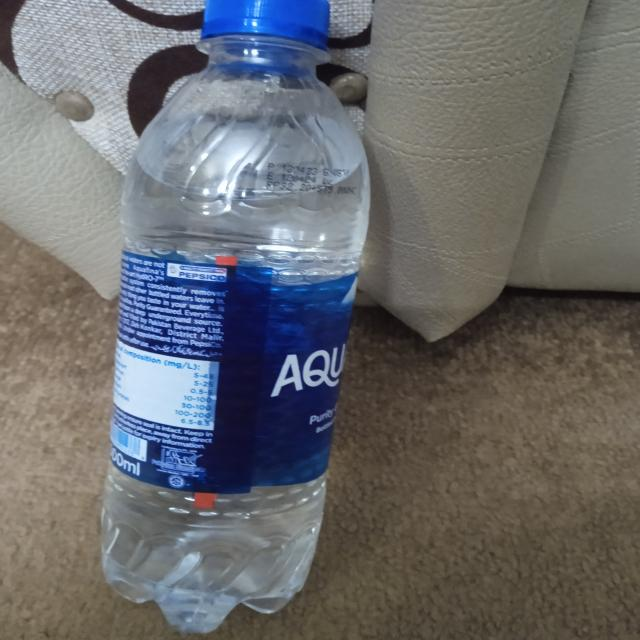Plastic: (88, 1, 393, 640)
